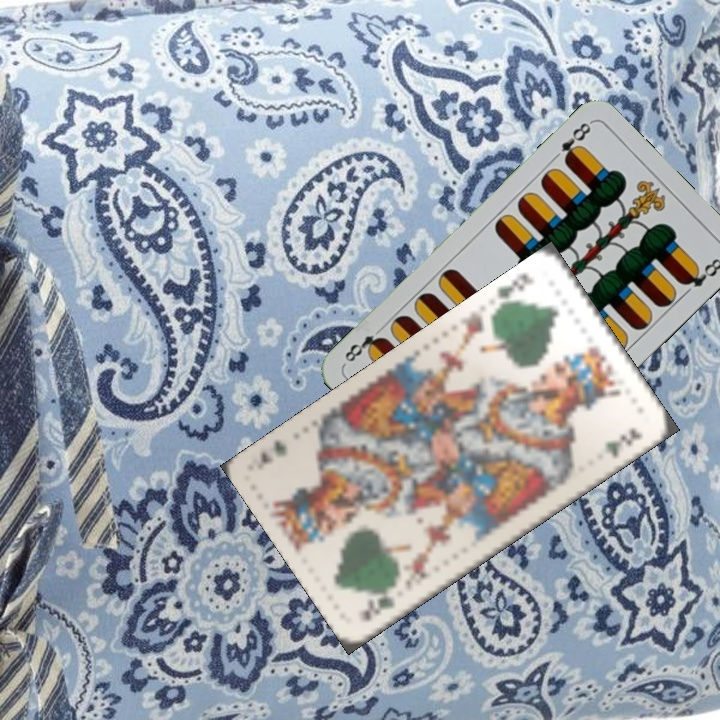E8: (557, 117, 594, 167)
GK: (357, 579, 401, 625), (493, 268, 536, 311)
